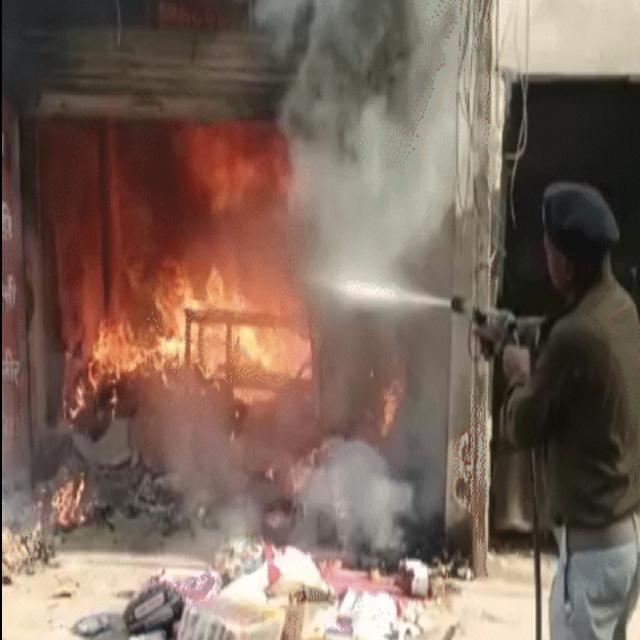fire: (170, 259, 312, 405), (69, 260, 170, 431), (190, 119, 296, 214), (51, 473, 91, 533), (57, 263, 68, 414), (381, 379, 403, 442)
